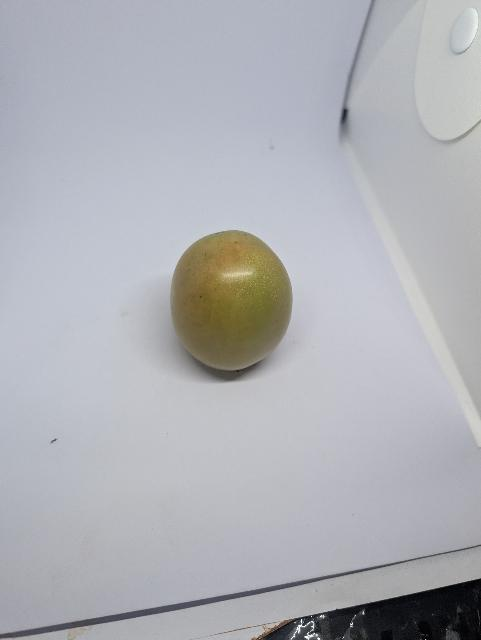breaker: (167, 227, 298, 376)
